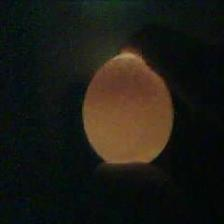infertile: (79, 48, 178, 170)
